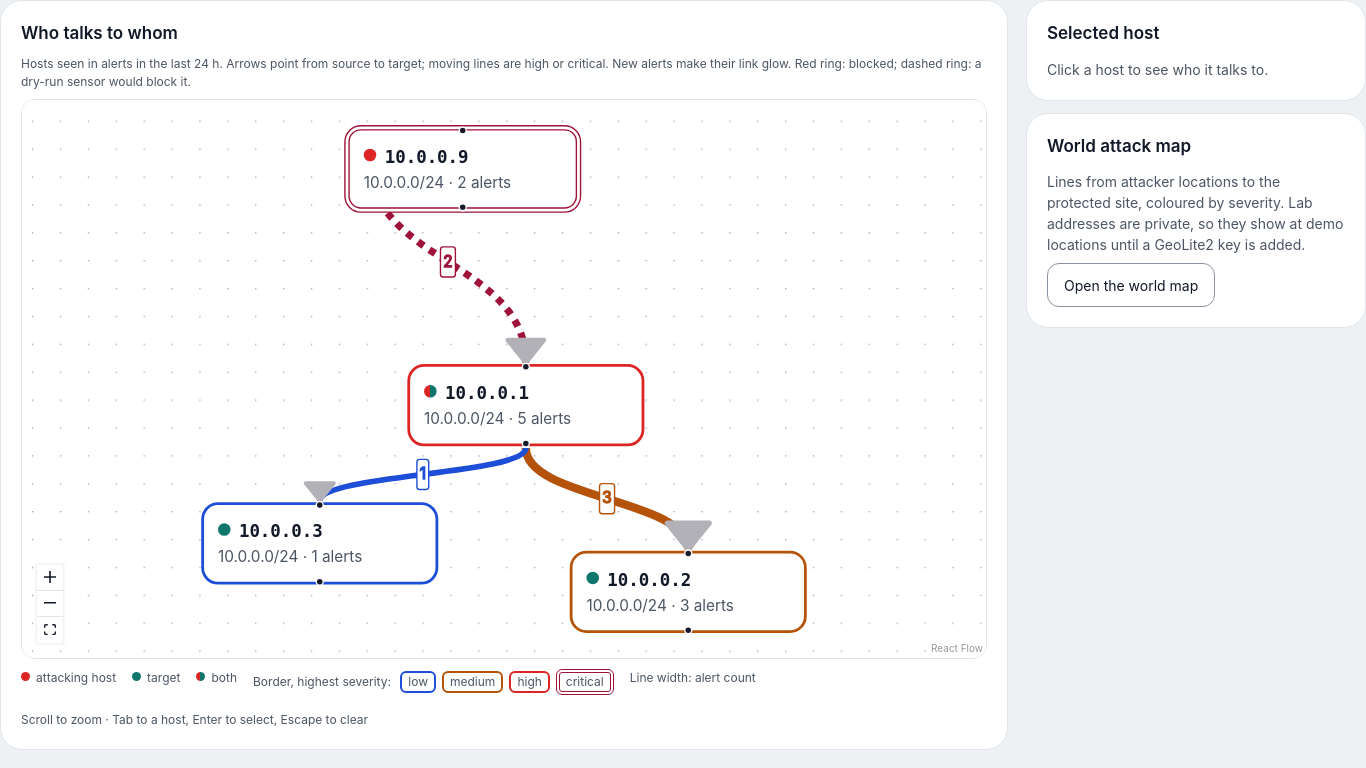
Test case: TopologyMap › block state › a blocks error shows unknown
Click the element showing "10.0.0.9 10.0.0.0/24 · 2 alerts" at (463, 169), box [344,124,581,213]
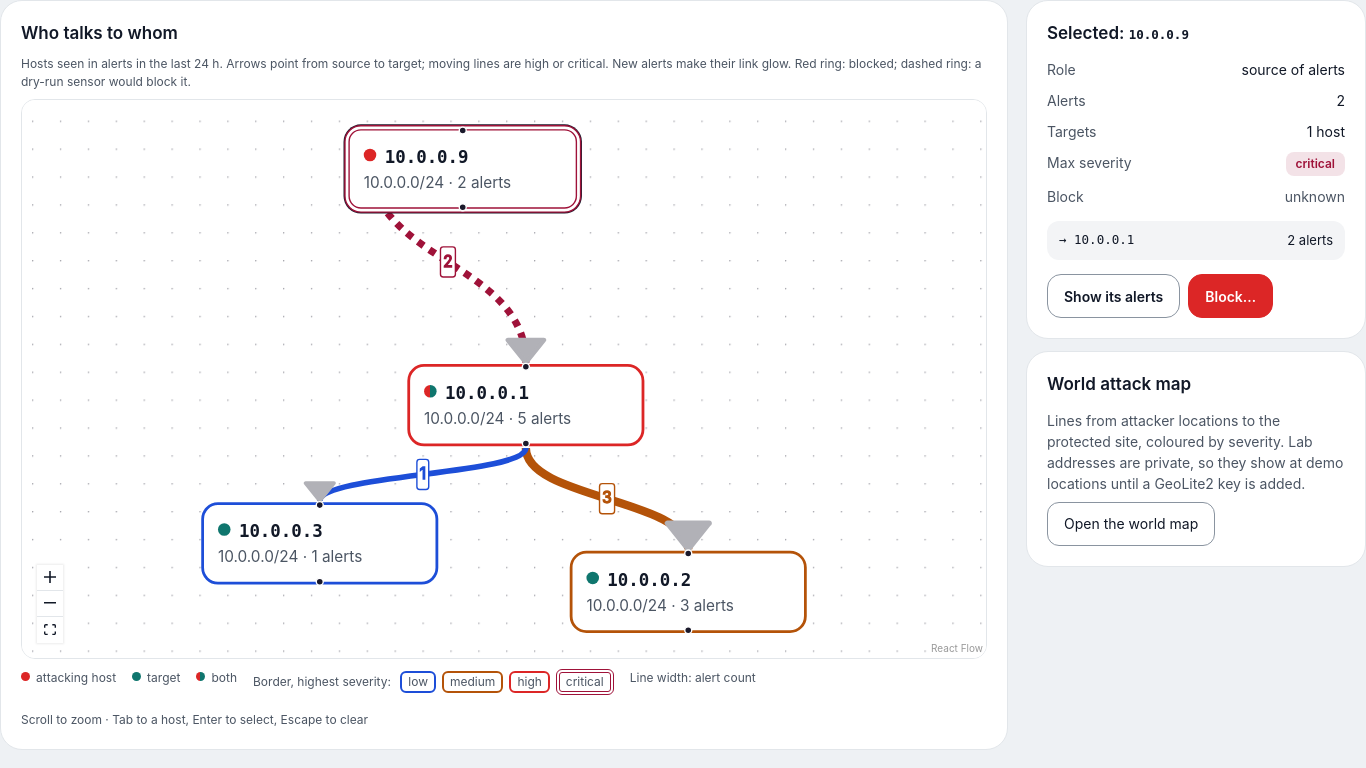
Now the text "unknown" is shown, box [1285,188,1345,205]
